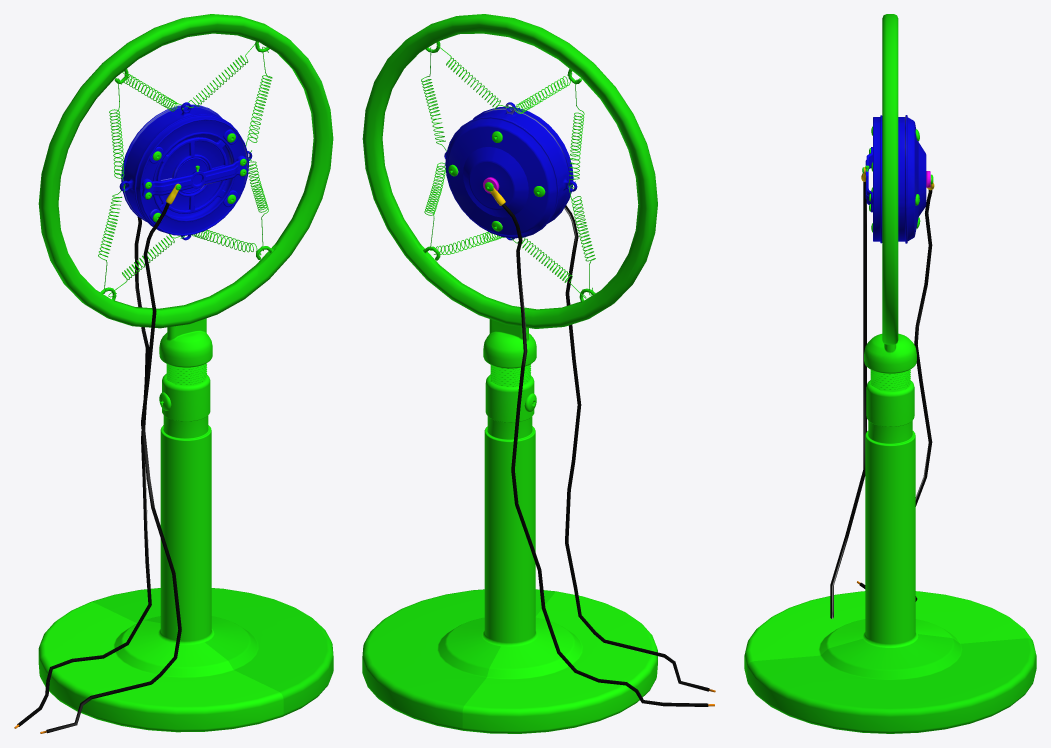
File: microphone.fbx
3 views of the same model, side by side, from view 1: azimuth 30°, elevation 25°; view 2: azimuth 150°, elevation 25°; view 3: azimuth 270°, elevation 25° (orthographic).
Visible parts, largest first — view 1: Bolt.001; view 2: Bolt.001; view 3: Bolt.001.
Boxes of the visible parts, bbox=[...] form: Bolt.001: bbox=[14, 14, 333, 733]; Bolt.001: bbox=[362, 14, 715, 733]; Bolt.001: bbox=[744, 14, 1036, 733].
Size of the model in its own units: 610 by 1141 by 469.
